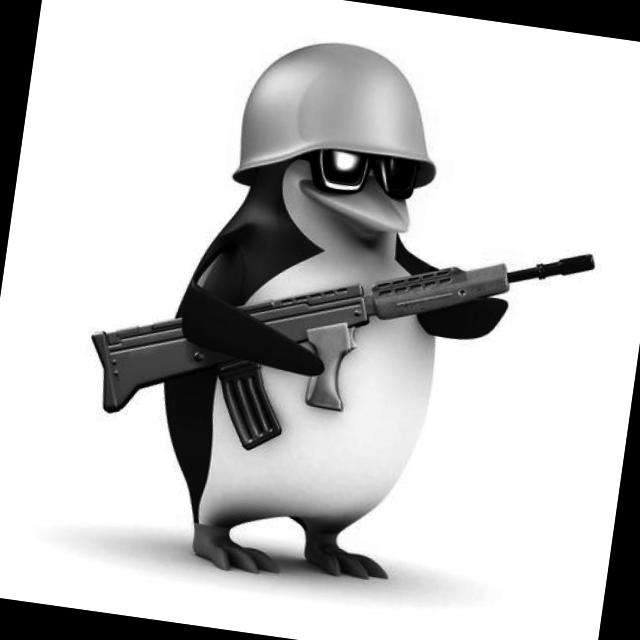gun: (80, 185, 596, 492)
